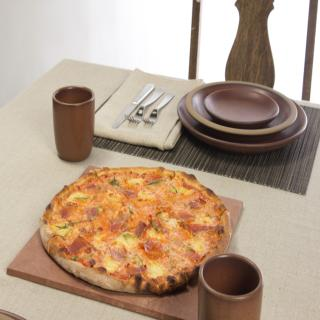Pizza: (41, 167, 231, 300)
